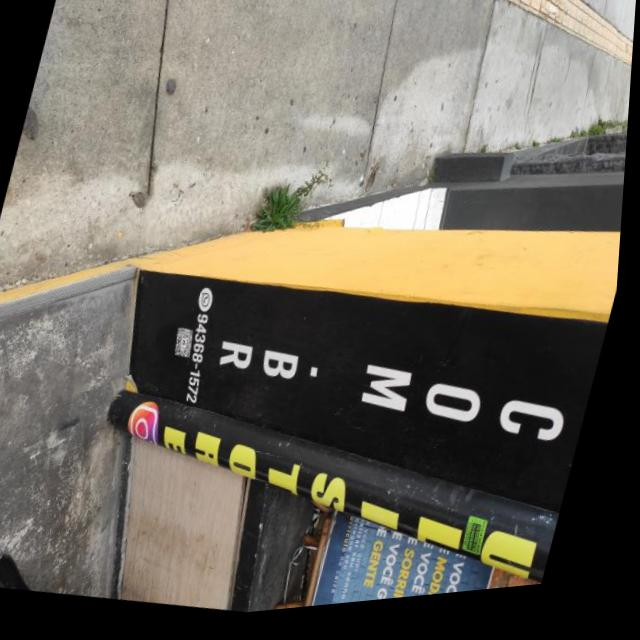qrcode: (176, 331, 201, 365)
